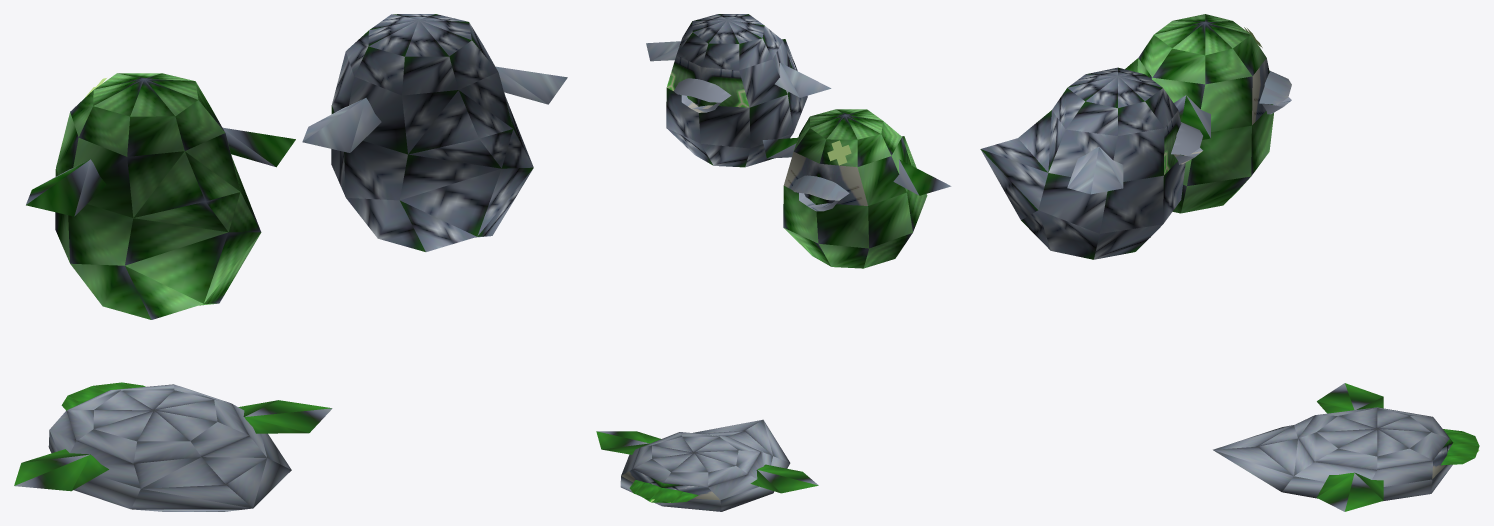
File: icon.ico.obj
3 views of the same model, side by side, from view 1: azimuth 30°, elevation 25°; view 2: azimuth 150°, elevation 25°; view 3: azimuth 270°, elevation 25° (orthographic). The views are drawn at different scales.
Bounding box in the file's own units: 4.44 × 4.67 × 4.72.
